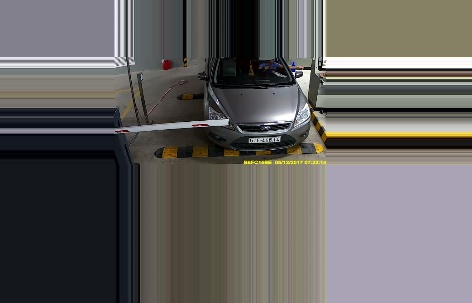plate: (247, 134, 283, 144)
